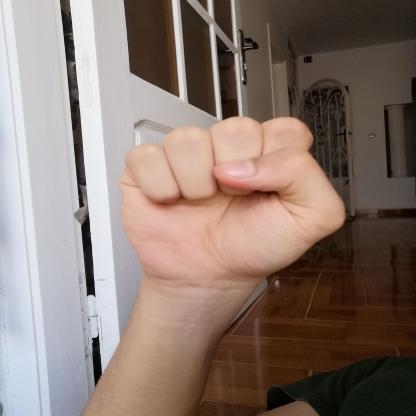SAD: (95, 102, 364, 297)
